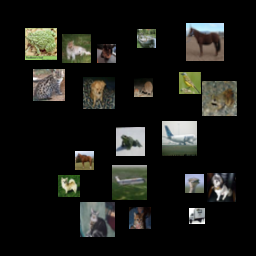airplane: (93, 3, 131, 41)
automobile: (91, 133, 129, 171), (147, 182, 182, 217)
bird: (146, 134, 175, 163), (32, 183, 54, 205)
cat: (197, 34, 235, 72), (35, 143, 67, 175), (25, 210, 54, 239), (183, 216, 212, 245)
deer: (67, 116, 89, 138), (174, 75, 193, 94)
dog: (69, 173, 95, 199), (33, 80, 52, 99)
frog: (67, 58, 102, 93), (108, 102, 127, 121)
ship: (180, 103, 206, 129), (10, 23, 32, 45), (199, 182, 218, 201)
